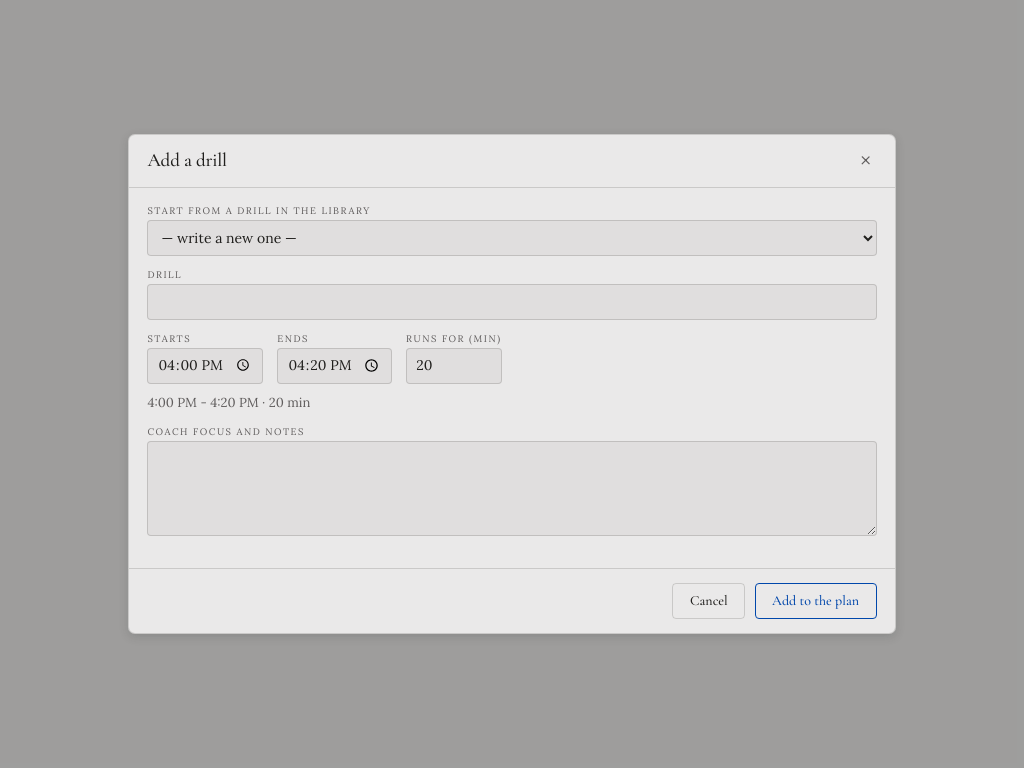
the three-way arithmetic › takes any whole number of minutes, not just steps of five
A two-minute water break is a real slot in a session.
Replace the text in the number field labelled "Runs for (min)" with "2" at (454, 366), box [406,348,502,384]
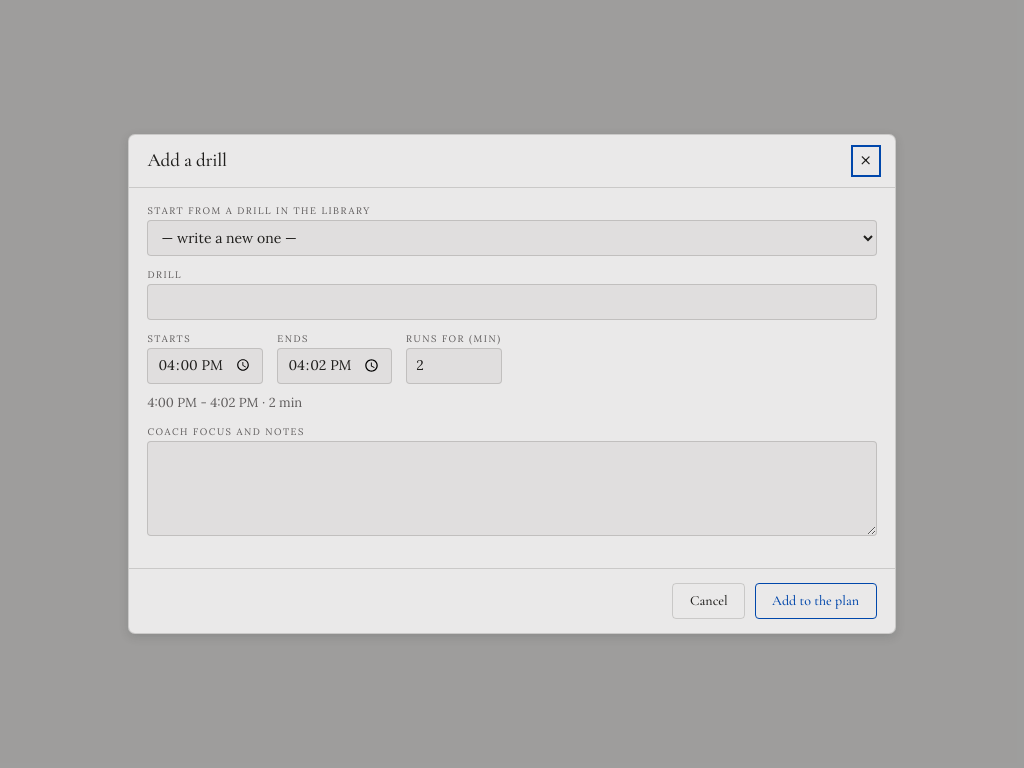
Expected: the time field labelled "Ends" holds "16:02", [277,348,392,384]
Expected: the text "4:00 PM - 4:02 PM · 2 min" is shown, [147,394,302,411]
